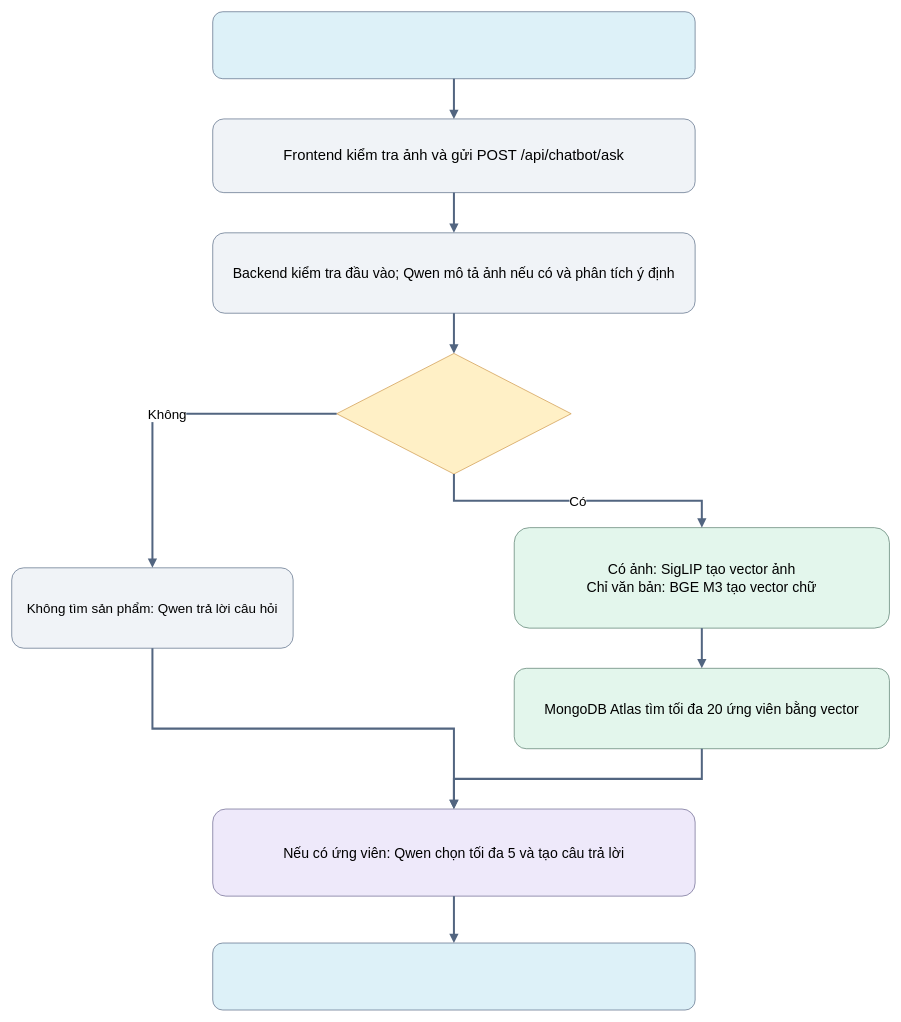
Image size: 901x1022. Some labels were removed from this diagram. Each missing label, with the box of its shape:
Người dùng nhập câu hỏi hoặc chọn ảnh: (212, 11, 695, 79)
Trả reply và products cho giao diện: (212, 942, 695, 1010)
Yêu cầu tìm sản phẩm?: (336, 353, 571, 474)
